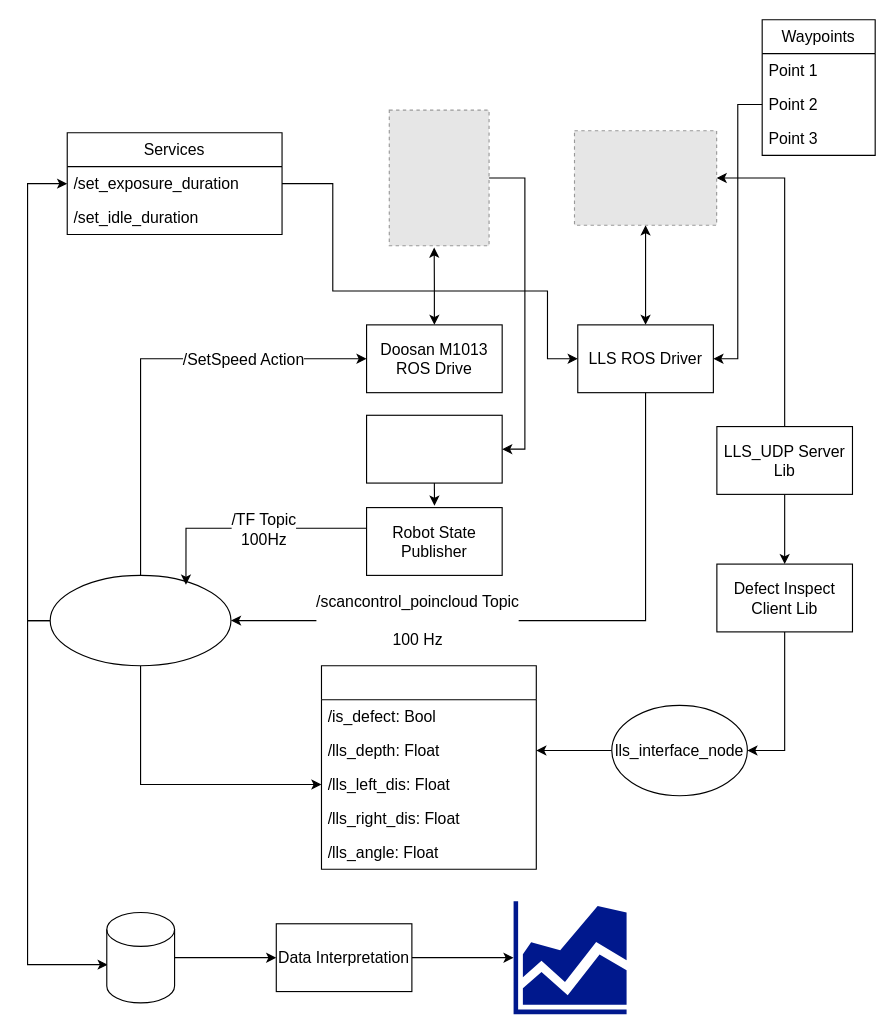
Image size: 896x1034. Some labels were removed from this diagram. Grey dashed boxes stand in for pictures. The box of each missing label's shape, as (x1, y1, x2, y2) in pixels:
.CSV: (106, 911, 175, 1003)
data_colection_node: (49, 574, 231, 666)
Joint States: (365, 414, 502, 483)
Topics: (320, 665, 536, 869)
